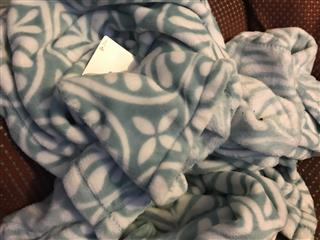AceOfClubs: (81, 34, 132, 73)
